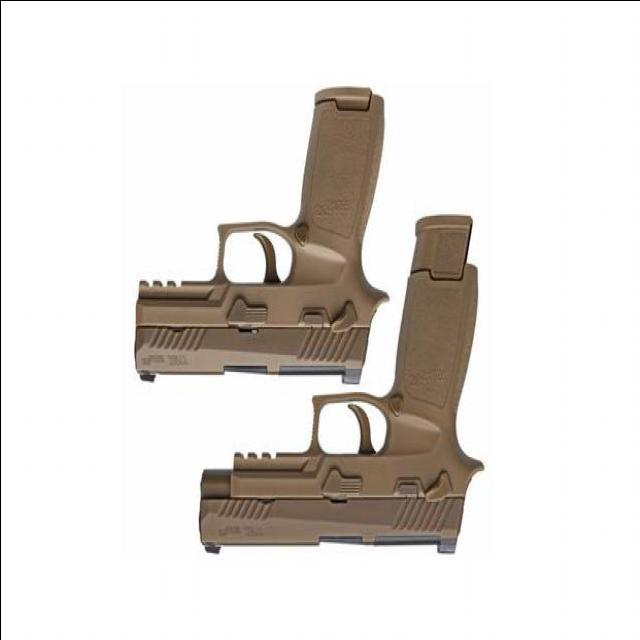pistol: (189, 197, 486, 566), (118, 83, 401, 397)
